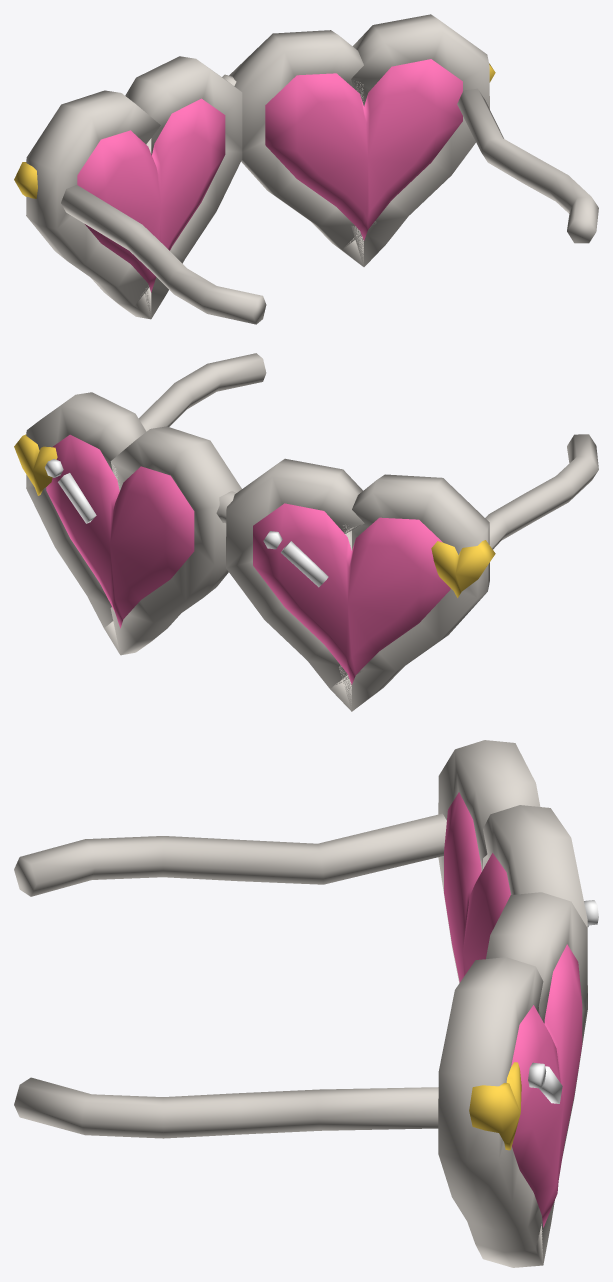
File: lunettes_coeur.fbx
3 views of the same model, one above another, from view 1: azimuth 30°, elevation 25°; view 2: azimuth 150°, elevation 25°; view 3: azimuth 270°, elevation 25° (orthographic). The views are drawn at different scales.
Parts seen in each view (by area): view 1: Anim_Lunettes, Anim_CoeurGauche, Anim_CoeurDroit; view 2: Anim_Lunettes, Anim_CoeurDroit, Anim_CoeurGauche; view 3: Anim_Lunettes, Anim_CoeurGauche, Anim_CoeurDroit.
Boxes of the visible parts, <box> form: Anim_Lunettes: <box>14,14,598,324</box>; Anim_CoeurGauche: <box>265,59,462,240</box>; Anim_CoeurDroit: <box>77,98,225,292</box>; Anim_Lunettes: <box>14,353,598,711</box>; Anim_CoeurDroit: <box>253,503,450,684</box>; Anim_CoeurGauche: <box>45,434,194,628</box>; Anim_Lunettes: <box>14,740,587,1267</box>; Anim_CoeurGauche: <box>511,944,582,1227</box>; Anim_CoeurDroit: <box>444,792,598,982</box>.
Bounding box in the file's own units: 0.7418 × 0.3479 × 0.563.
